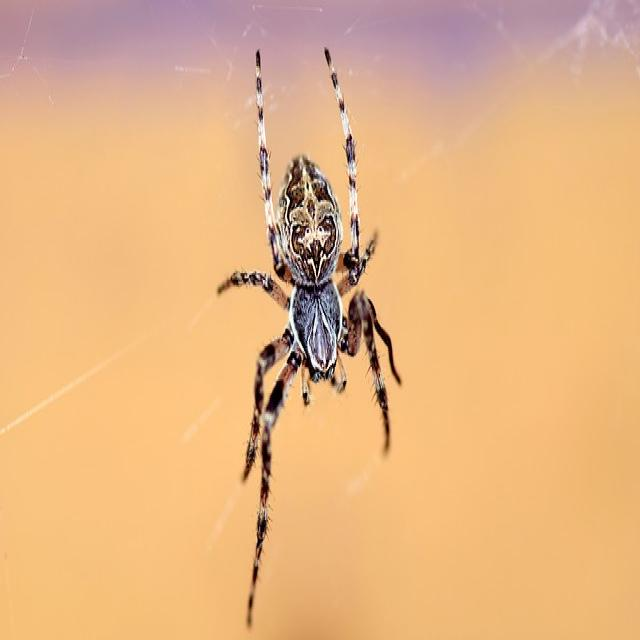spyder: (217, 49, 402, 628)
